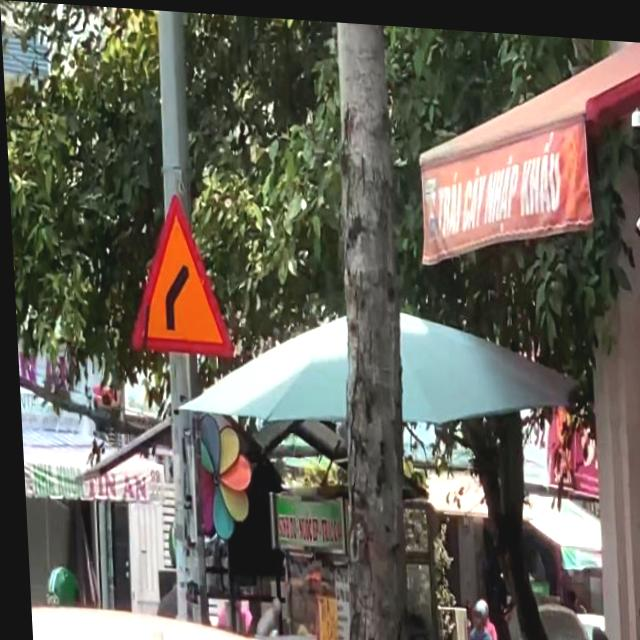cho ngoat nguy hiem vong ben phai: (116, 181, 239, 369)
